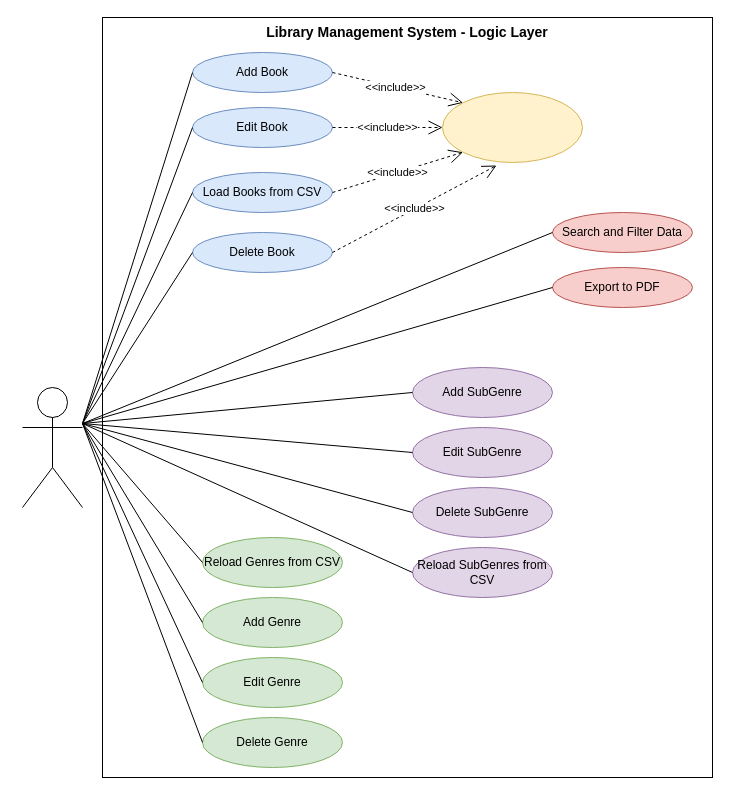
Some shapes in this 730 by 795 pixel diagram are drawn without their labels. The shapes that lost their labels are listed below. From the top down, each one's box as (x1, y1, x2, y2) in pixels, then its label:
(442, 92, 582, 162): Validate Book Data
(22, 386, 82, 508): Administrator
